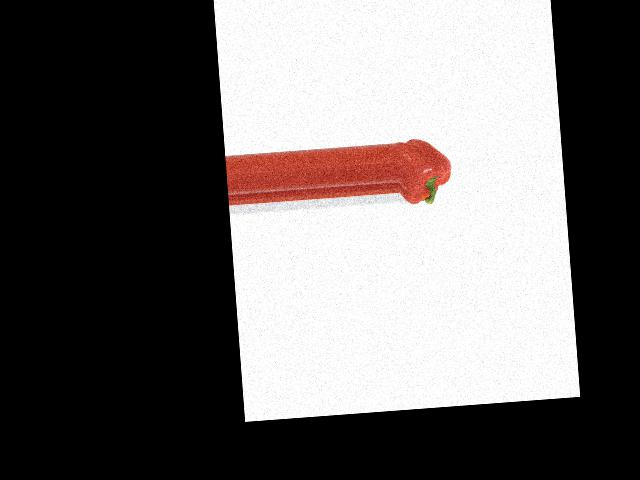bell_pepper: (394, 129, 454, 215)
